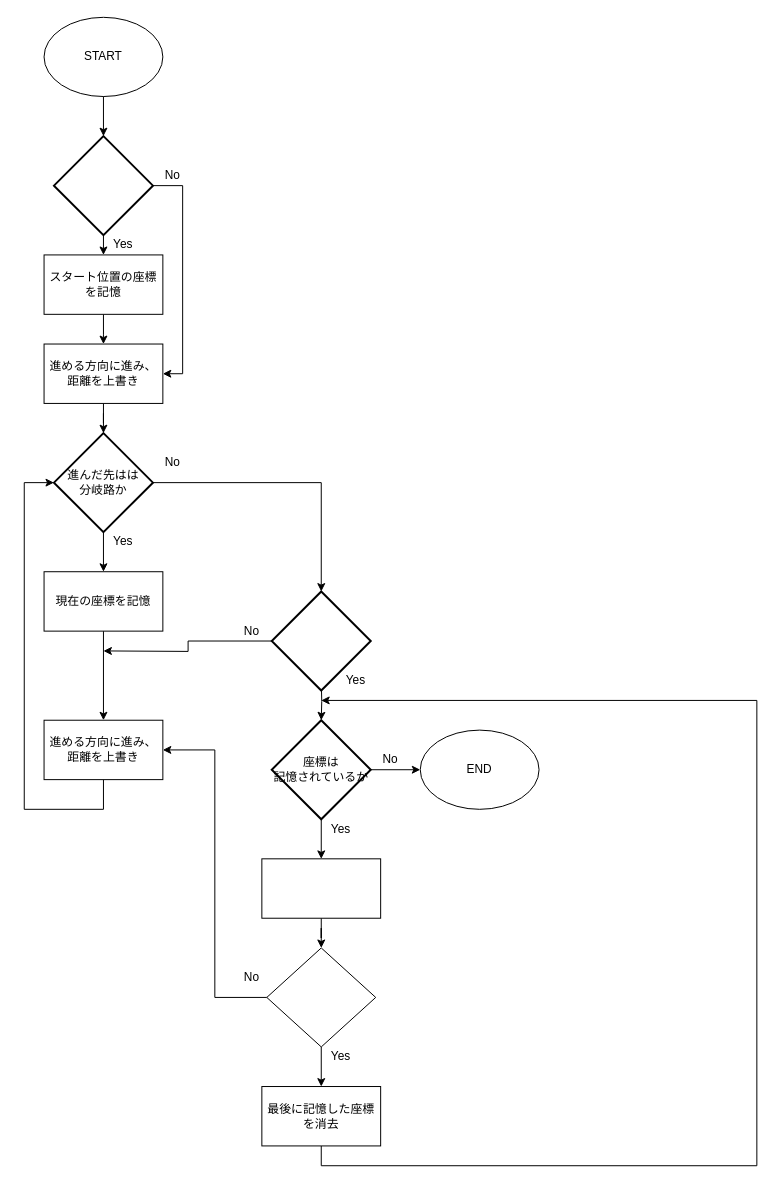
This 782x1191 diagram has some shape labels left out. Here are the shapes that lost their labels. From the top down, the box of each, then its label:
(52, 135, 153, 236): START地点は 分岐路か
(270, 590, 371, 691): 行き止まりか
(261, 858, 381, 918): 現在の座標を 最後に記憶された 座標に移動
(266, 947, 376, 1047): その座標の 分岐路はすべて 更新済みか
